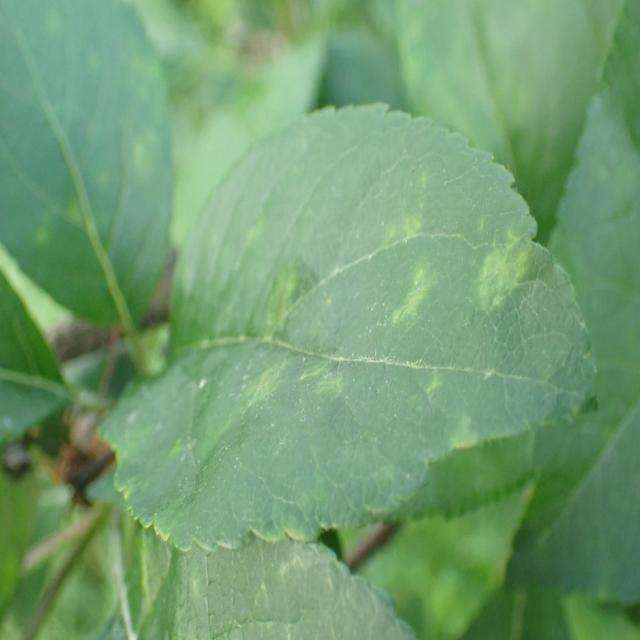scab: (177, 189, 533, 556)
